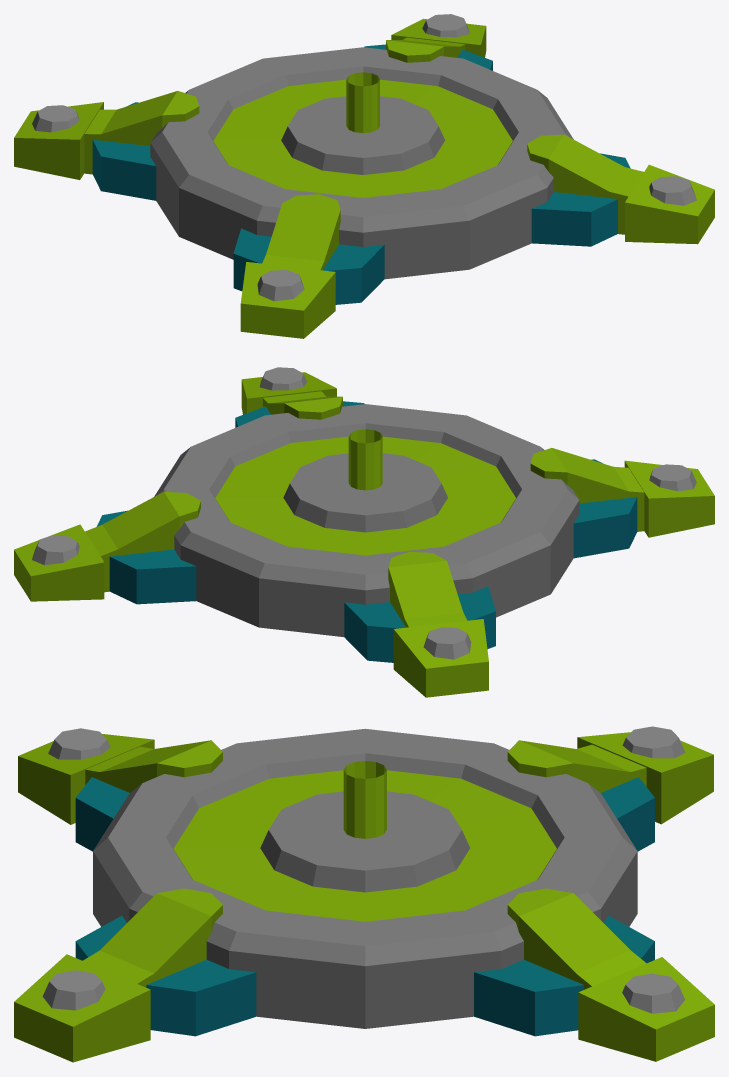
The model's file is CannonG_Plate00.FBX.
3 renders of one model, top to bottom at view 1: azimuth 30°, elevation 25°; view 2: azimuth 150°, elevation 25°; view 3: azimuth 270°, elevation 25°, orthographic. The views are drawn at different scales.
Visible parts, largest first — view 1: CannonG_Plate00; view 2: CannonG_Plate00; view 3: CannonG_Plate00.
Boxes of the visible parts, box(x1,y1,x2,y2) form: CannonG_Plate00: box(14, 14, 714, 338); CannonG_Plate00: box(14, 367, 714, 697); CannonG_Plate00: box(14, 726, 714, 1062).
Bounding box in the file's own units: 249 × 56.61 × 249.
